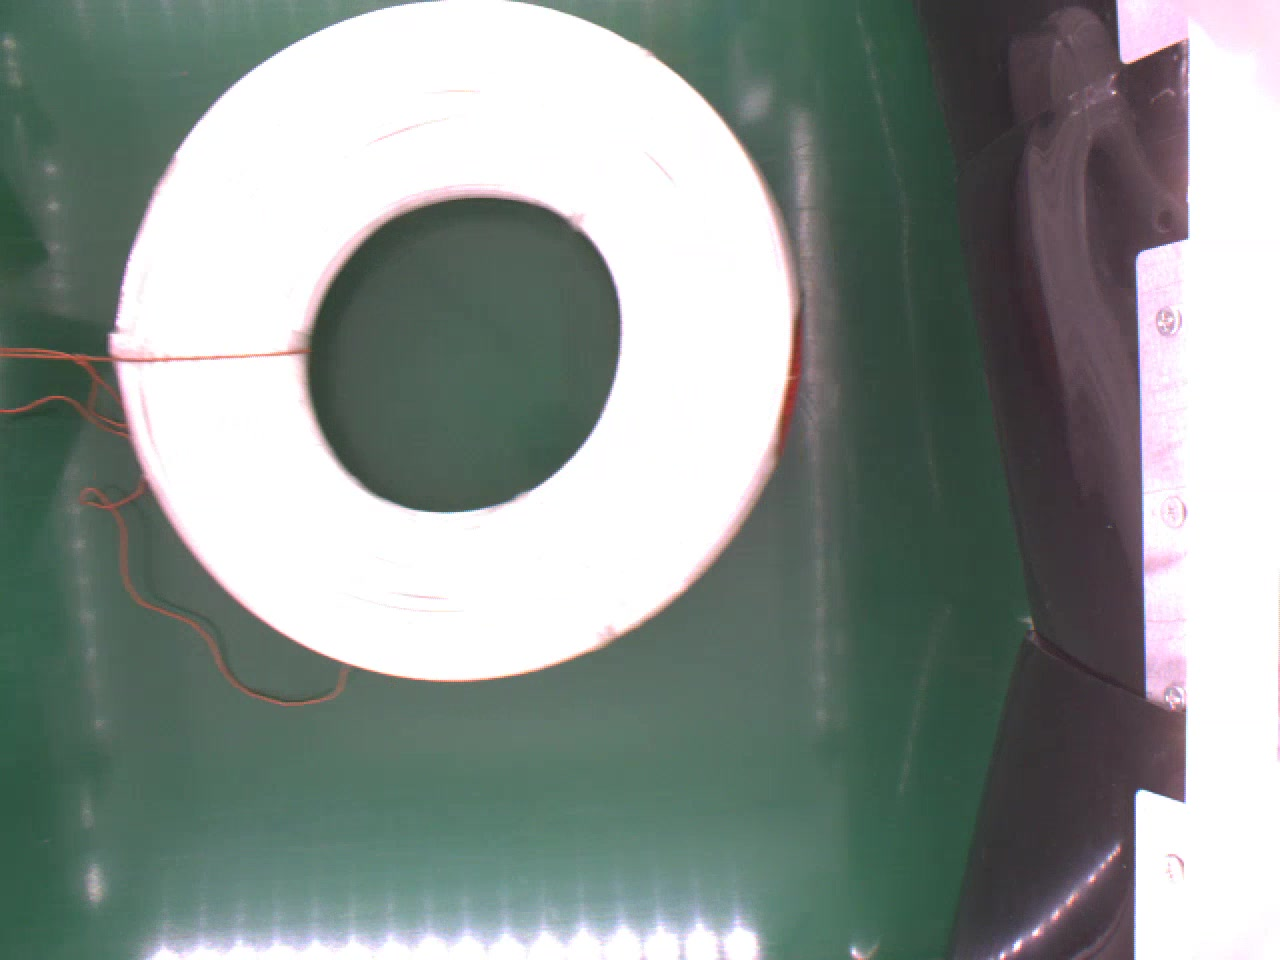white: (106, 0, 809, 683)
